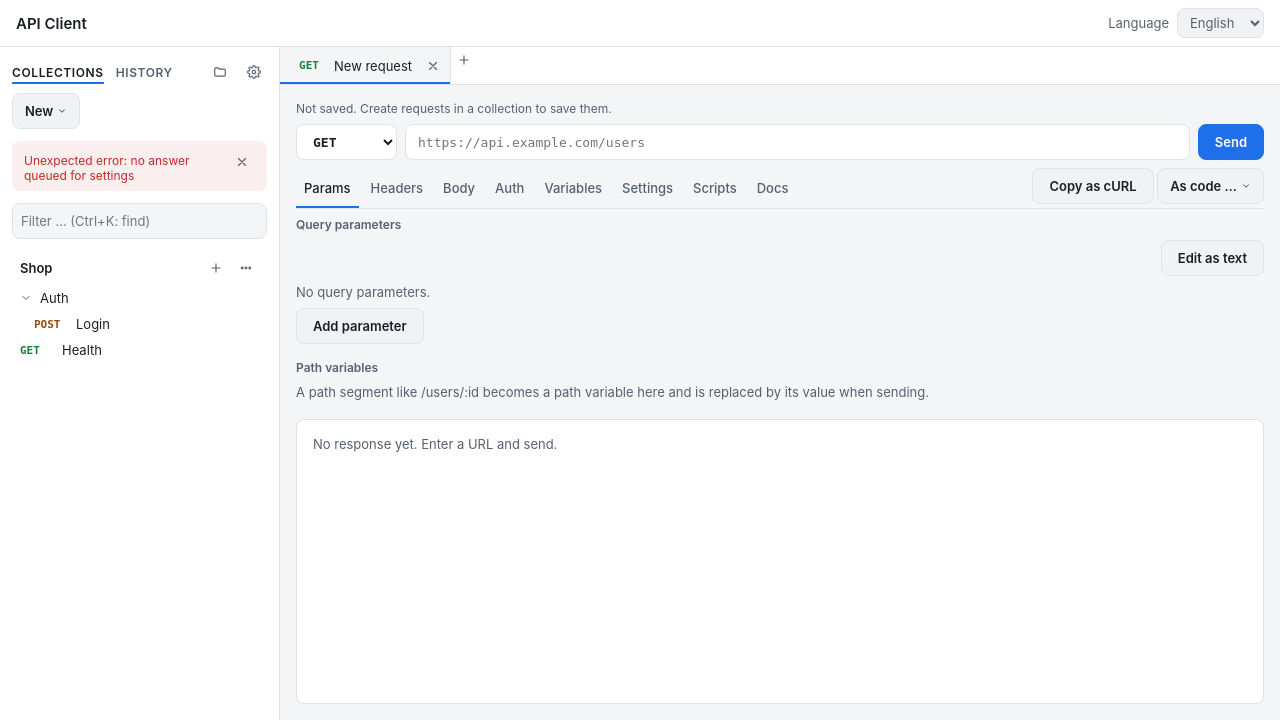
Test: WorkspacePage › creates a request through the name dialog
Expected: the text "Health" is shown, [62,342,102,358]
Step 1. Click the button named "New request" → (216, 268), box [203,255,229,281]
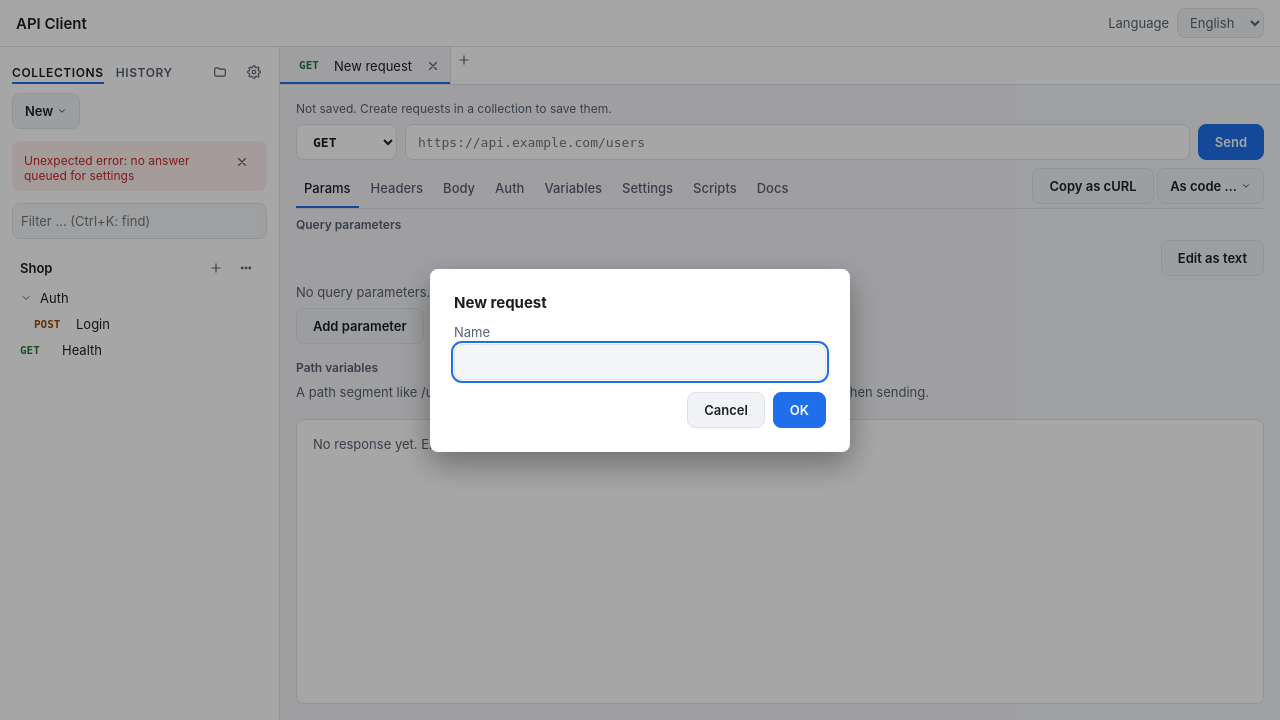
Step 2. Type "Status" into the field labelled "Name" → (640, 362), box [454,344,826,380]
Then press Enter
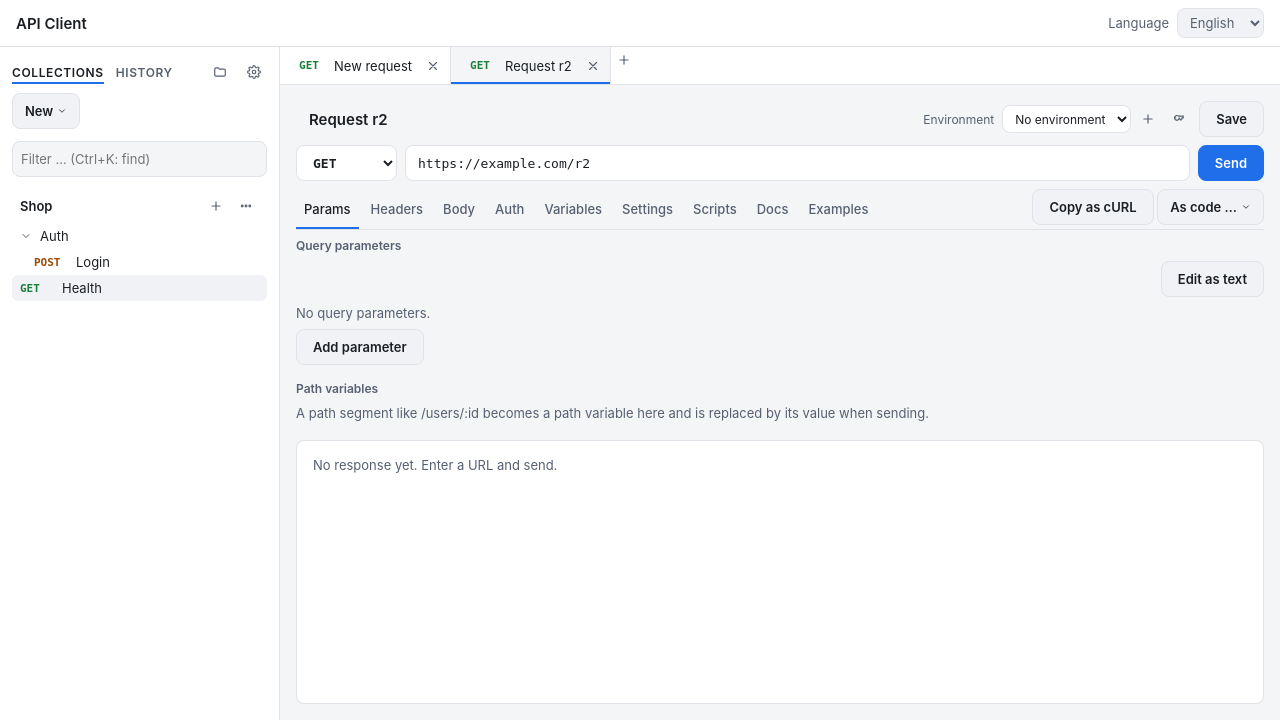
Expected: the dialog is gone
